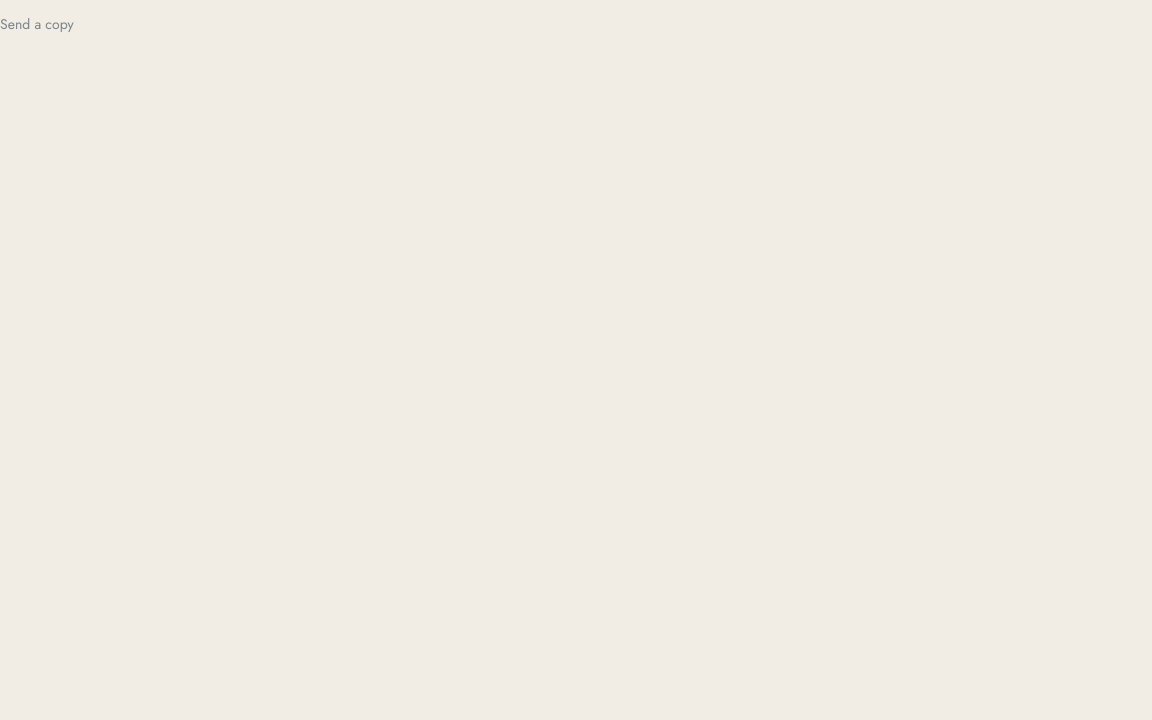
Test case: artifact copy sending › keeps the sheet open when share creation fails
Click the button "Send a copy" at [37, 24], box [0,6,74,42]
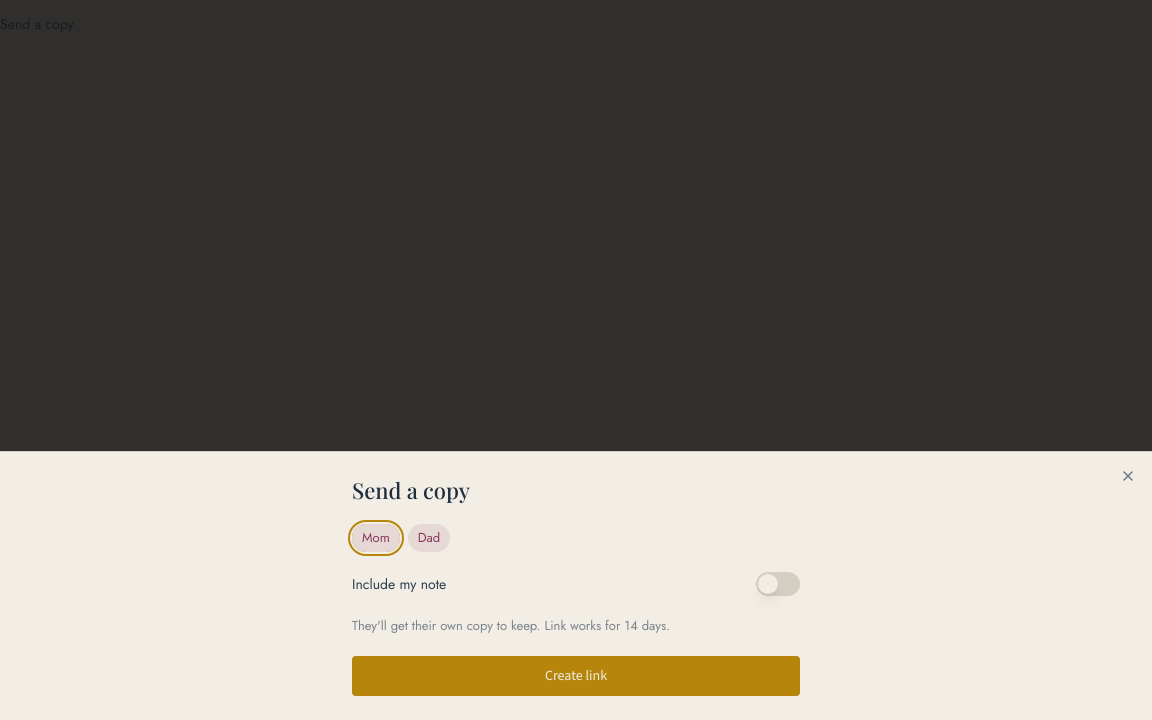
Now the button "Create link" is enabled
Click the button "Create link" at [576, 676], box [352,656,800,696]
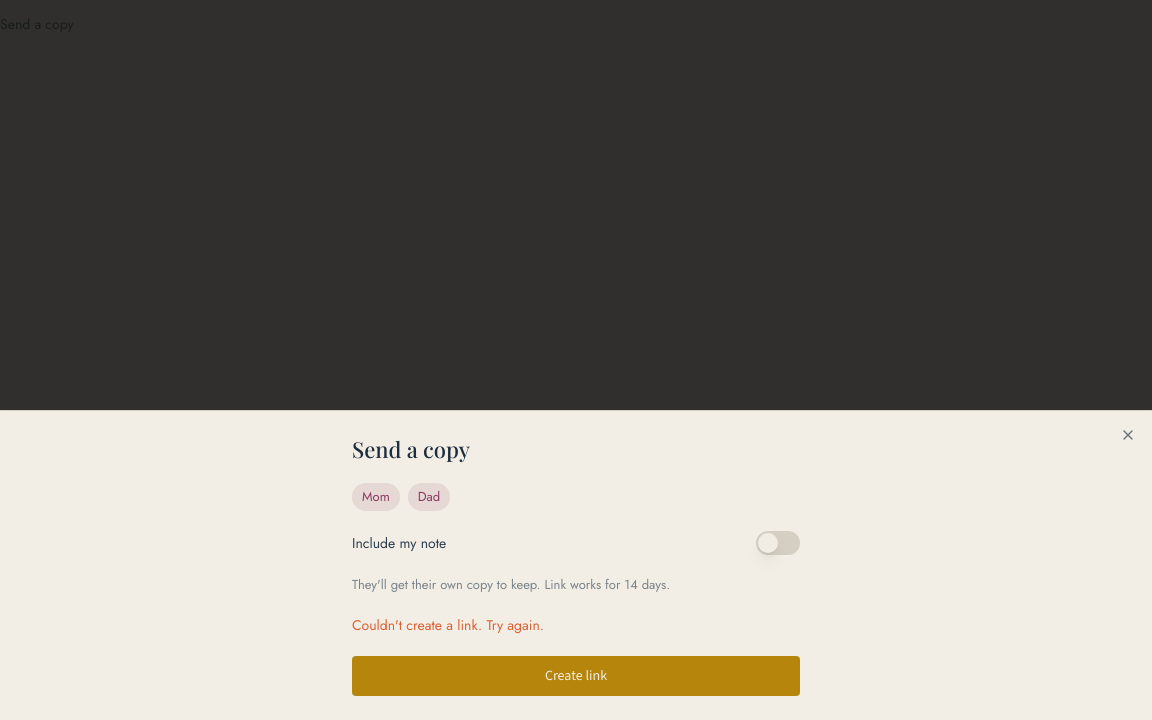
Now the dialog is shown, box [0,410,1151,719]
Now the message "Couldn't create a link. Try again." is shown, box [352,615,544,635]
